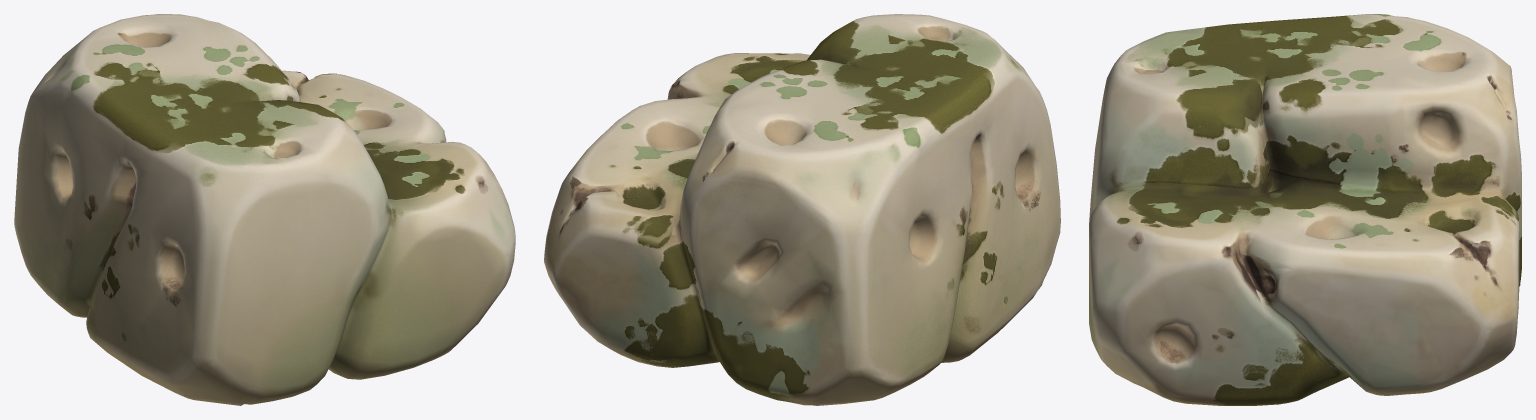
Rendered from tripo_convert_bd066ff9-71de-4a57-91f6-401331a0b99b.fbx.
3 renders of one model, left to right at view 1: azimuth 30°, elevation 25°; view 2: azimuth 150°, elevation 25°; view 3: azimuth 270°, elevation 25°, orthographic. The views are drawn at different scales.
Visible parts, largest first — view 1: tripo_node_bd066ff9; view 2: tripo_node_bd066ff9; view 3: tripo_node_bd066ff9.
Boxes of the visible parts, <box> form: tripo_node_bd066ff9: <box>14,14,515,405</box>; tripo_node_bd066ff9: <box>544,14,1060,405</box>; tripo_node_bd066ff9: <box>1089,14,1521,405</box>.
Bounding box in the file's own units: 0.9434 × 0.6543 × 0.998.
Materials: 1 (1 with a texture image).
